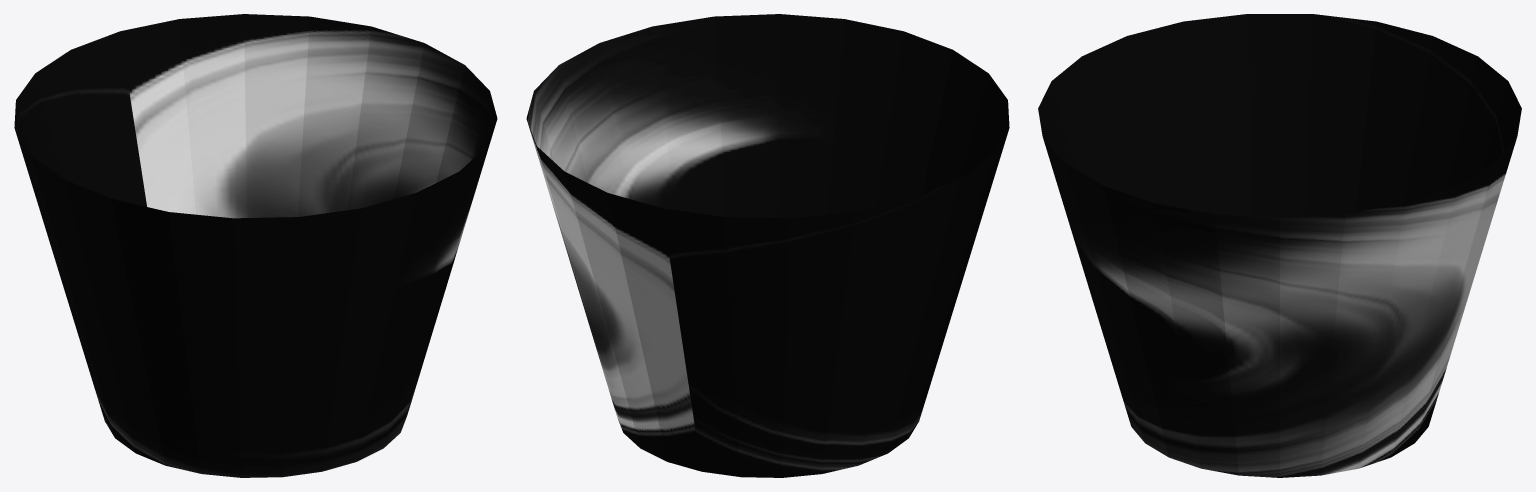
Rendered from 0191_XCLDshuangdanwasi_Mesh_02.glb.
3 views of the same model, side by side, from view 1: azimuth 30°, elevation 25°; view 2: azimuth 150°, elevation 25°; view 3: azimuth 270°, elevation 25° (orthographic).
Size of the model in its own units: 2.19 by 1.5 by 2.2.
Materials: 1 (1 with a texture image).
